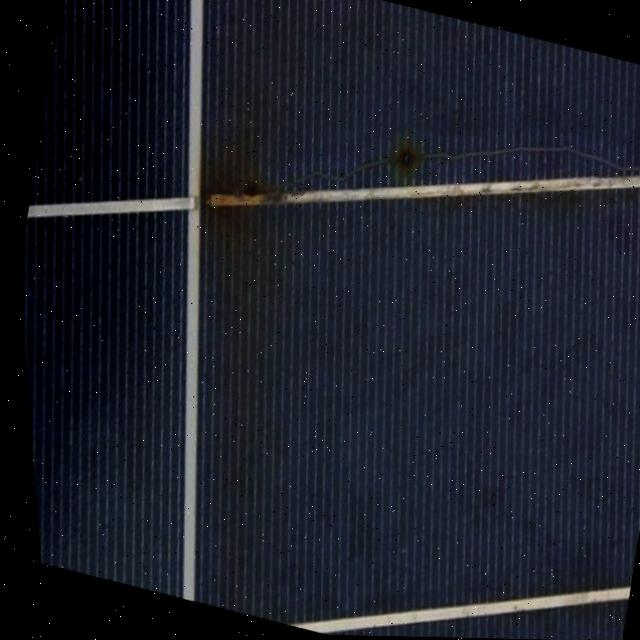Structural Damage: (418, 136, 640, 171), (271, 151, 393, 197)
